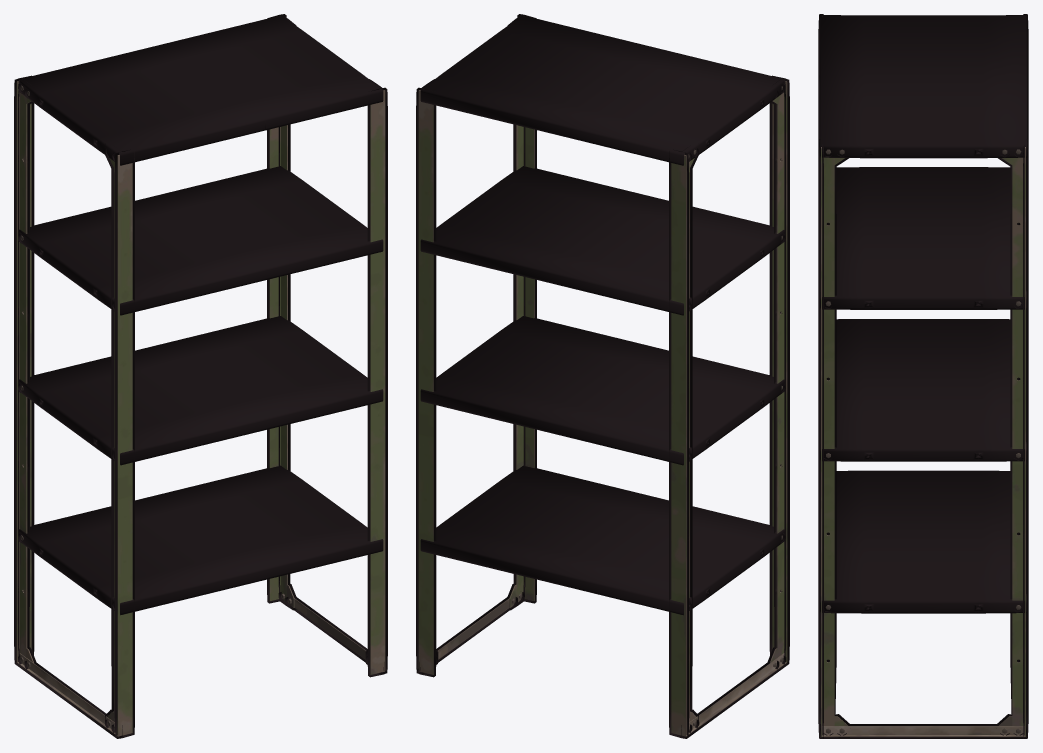
The model's file is SM_Int_MetalRack.fbx.
3 views of the same model, side by side, from view 1: azimuth 30°, elevation 25°; view 2: azimuth 150°, elevation 25°; view 3: azimuth 270°, elevation 25° (orthographic).
Parts seen in each view (by area): view 1: SM_Int_MetalRack; view 2: SM_Int_MetalRack; view 3: SM_Int_MetalRack.
Boxes of the visible parts, x1,y1,x2,y2 form: SM_Int_MetalRack: [14, 14, 387, 738]; SM_Int_MetalRack: [416, 14, 789, 738]; SM_Int_MetalRack: [818, 14, 1028, 738].
Size of what is drawn, in the model's own units: 0.9263 by 1.91 by 0.616.
